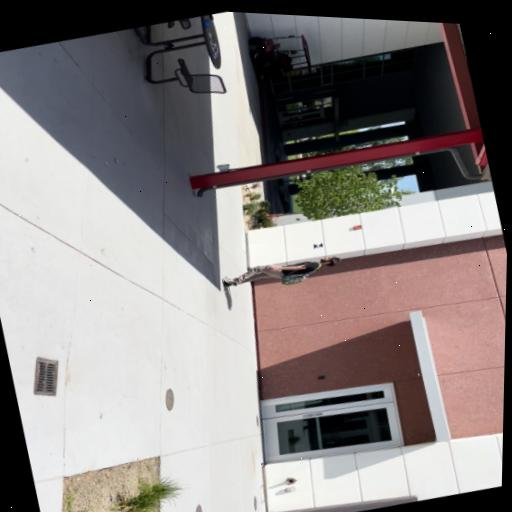target6: (313, 241, 323, 249)
